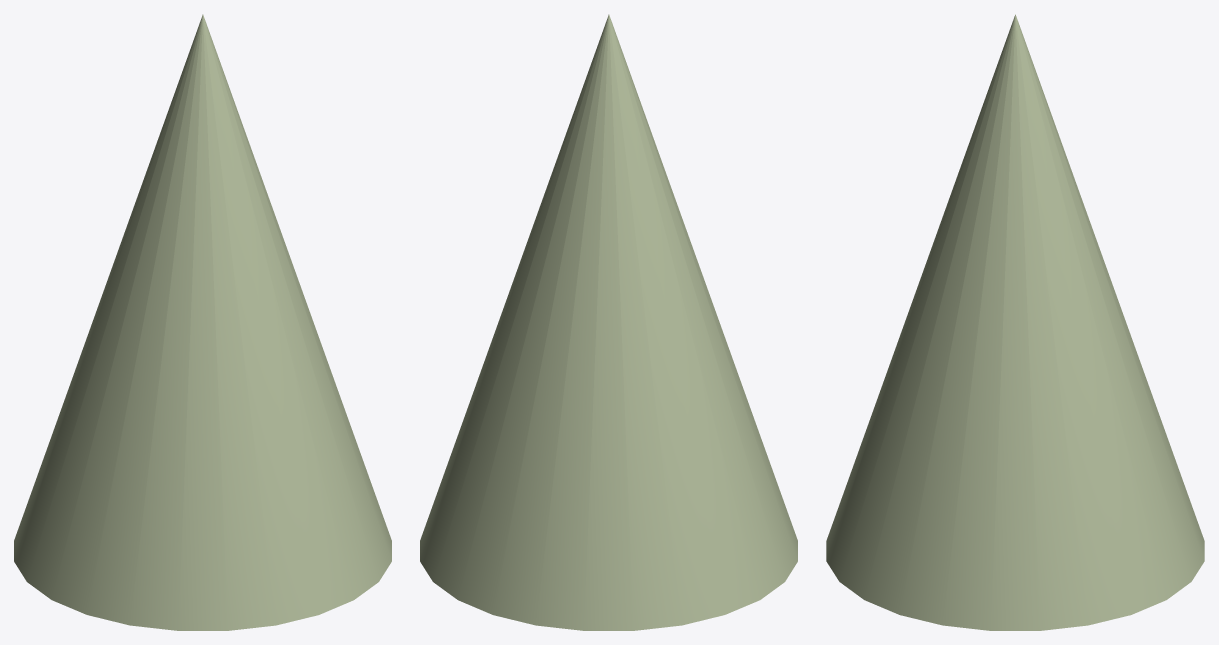
Rendered from AbiesBalsamea.glb.
3 views of the same model, side by side, from view 1: azimuth 30°, elevation 25°; view 2: azimuth 150°, elevation 25°; view 3: azimuth 270°, elevation 25° (orthographic).
Parts seen in each view (by area): view 1: Balsam_Fir__Schematic_LOD3; view 2: Balsam_Fir__Schematic_LOD3; view 3: Balsam_Fir__Schematic_LOD3.
Part boxes in pixels (x1=…): Balsam_Fir__Schematic_LOD3: x1=14, y1=14, x2=391, y2=630; Balsam_Fir__Schematic_LOD3: x1=420, y1=14, x2=797, y2=630; Balsam_Fir__Schematic_LOD3: x1=826, y1=14, x2=1204, y2=630.
Size of the model in its own units: 8.12 by 13.45 by 8.12.
